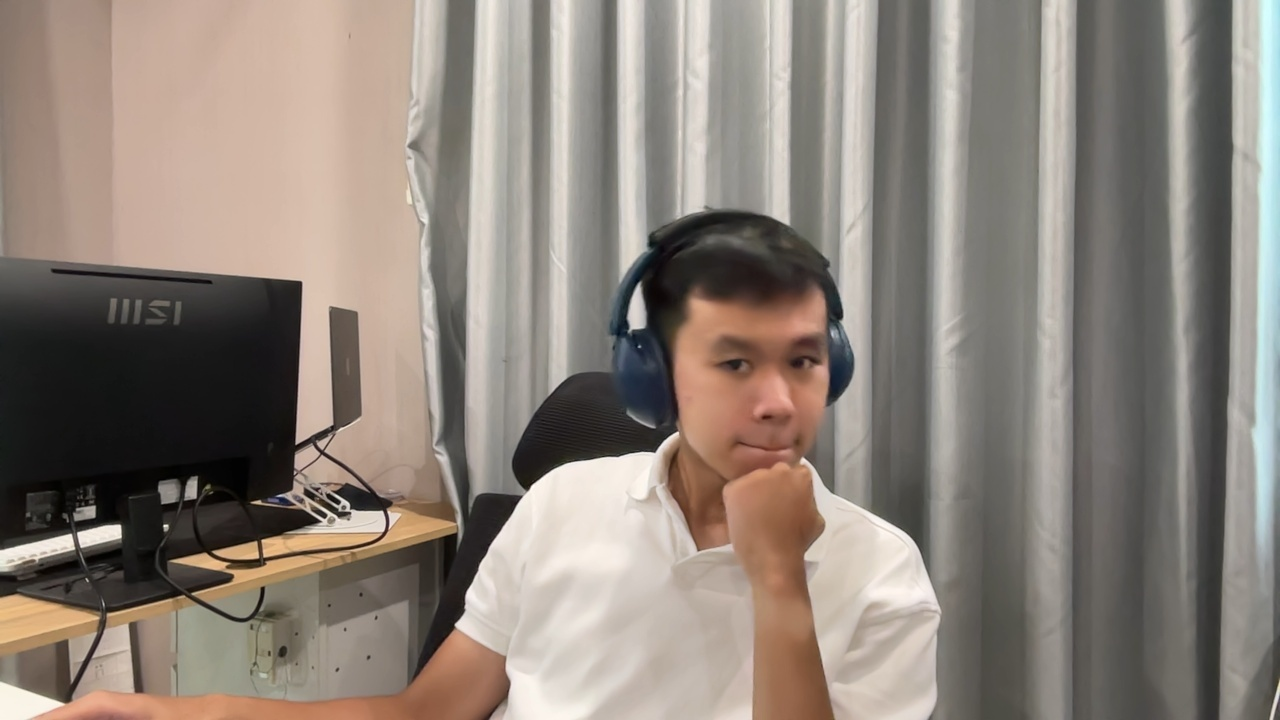over_ear: (606, 208, 857, 434), (607, 208, 858, 434)
